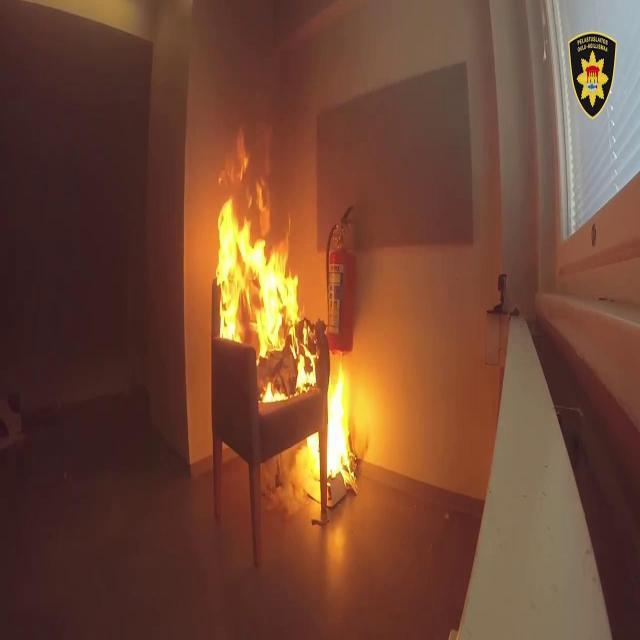fire: (220, 130, 316, 395), (322, 362, 362, 480)
